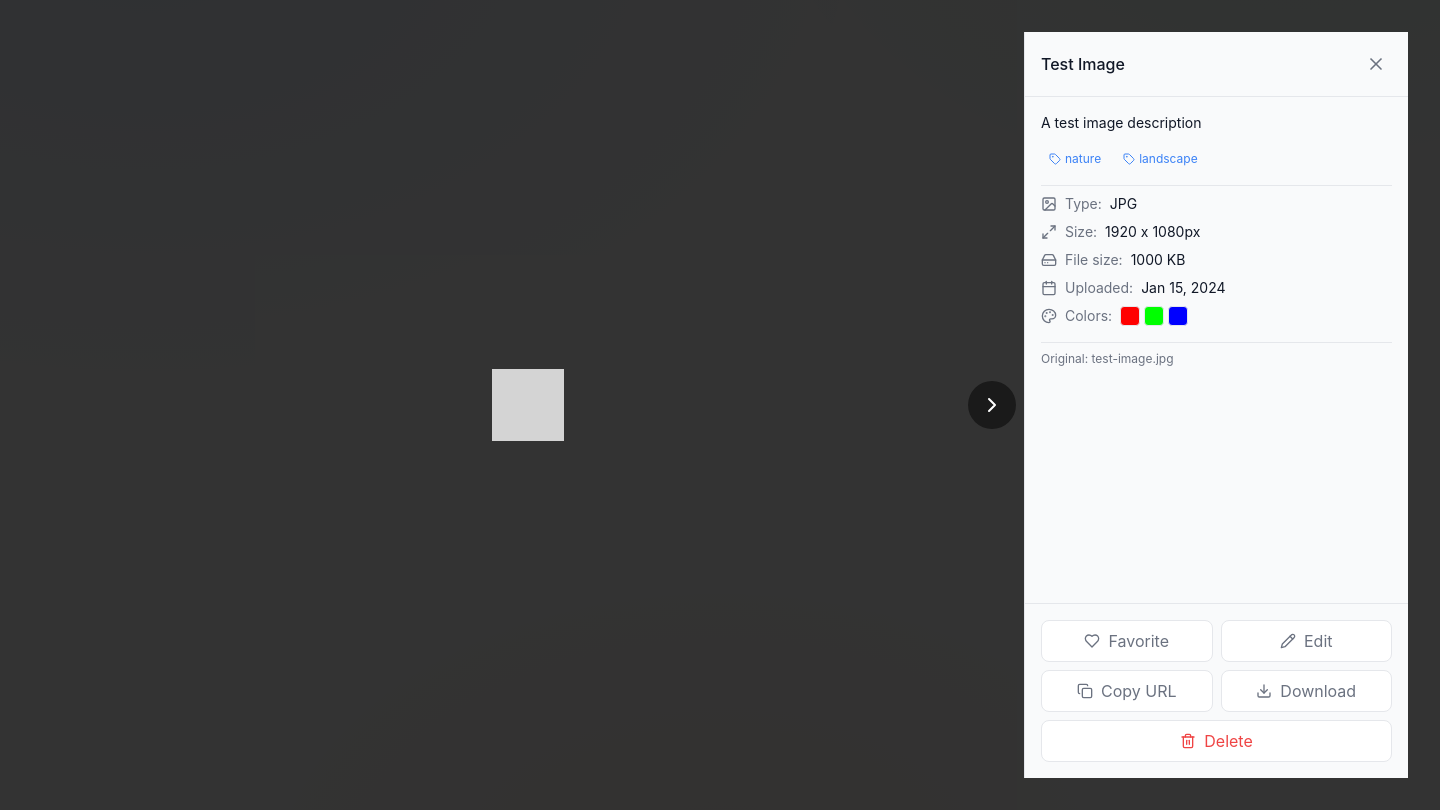
Test: ImageDetailsModal › Edit Mode › exits edit mode on Cancel
The image size is (1440, 810).
Click the button "Edit": click(1306, 641) [1220,620,1392,662]
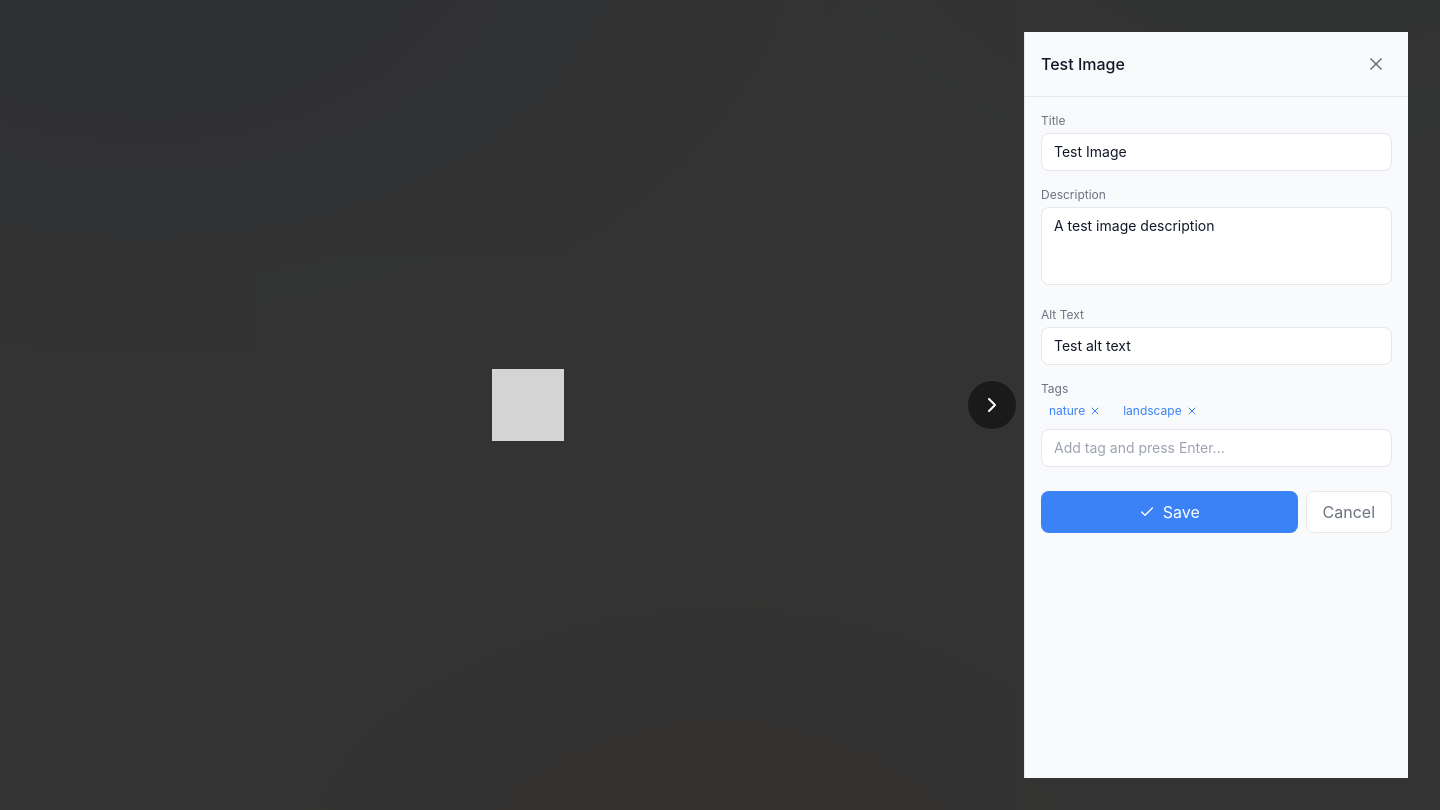
Click the button "Cancel": click(1349, 512) [1306,491,1392,533]
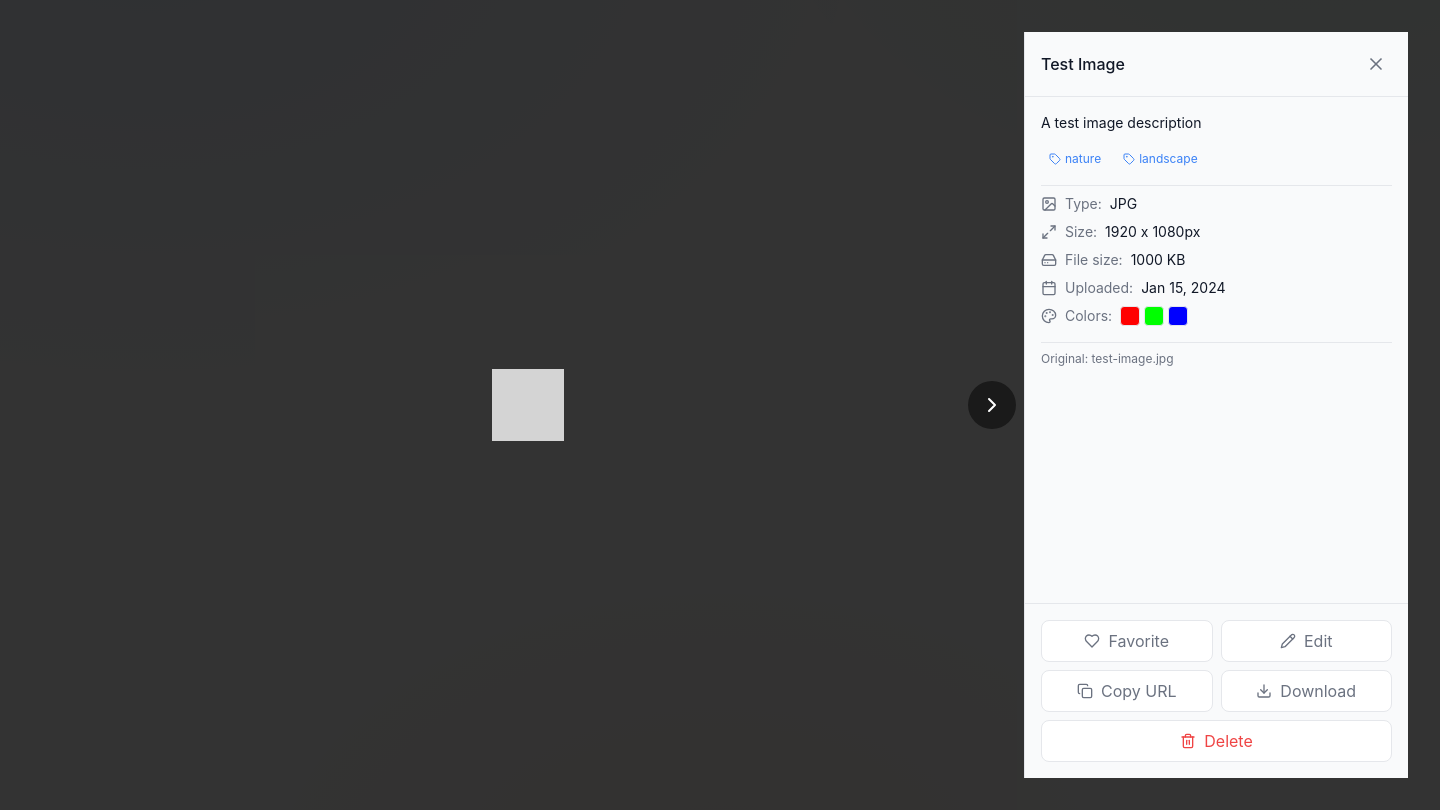
Expected: the field with placeholder "Image Title" is gone
